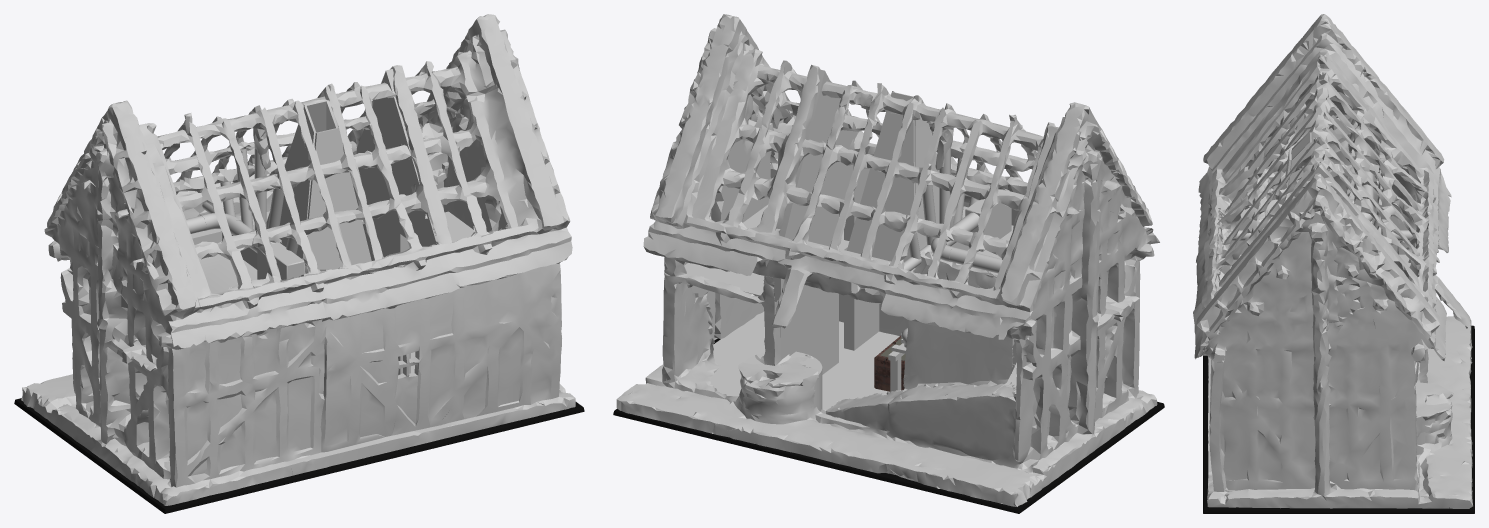
The model's file is Package.fbx.
3 renders of one model, left to right at view 1: azimuth 30°, elevation 25°; view 2: azimuth 150°, elevation 25°; view 3: azimuth 270°, elevation 25°, orthographic. The views are drawn at different scales.
Visible parts, largest first — view 1: Exterior_2, Interior; view 2: Exterior_2, Interior; view 3: Exterior_2, Interior.
Boxes of the visible parts, bbox=[...] form: Exterior_2: bbox=[21, 14, 575, 505]; Interior: bbox=[14, 69, 584, 513]; Exterior_2: bbox=[616, 14, 1159, 506]; Interior: bbox=[613, 69, 1164, 513]; Exterior_2: bbox=[1193, 14, 1472, 508]; Interior: bbox=[1203, 131, 1474, 513].
Size of the model in its own units: 54.92 by 44.68 by 35.36.
